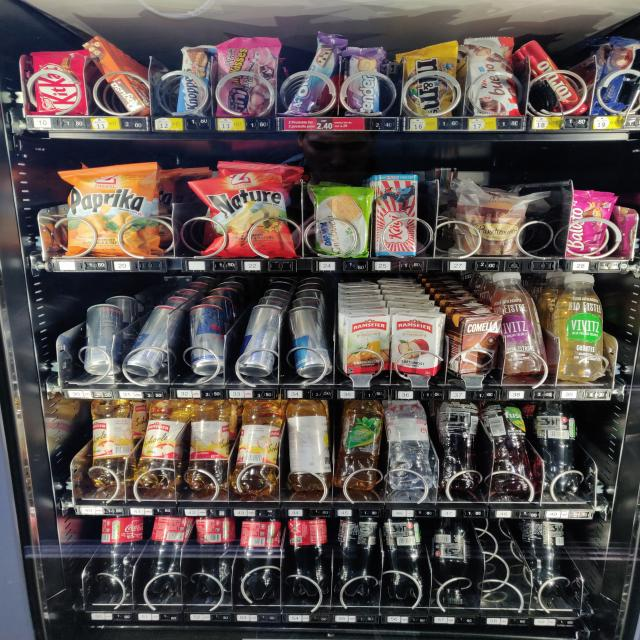balisto_yoberry__37g__: (566, 192, 616, 256)
bueno___43__4008400320328: (468, 33, 522, 118)
coke__flasche_50__54491472: (140, 521, 192, 601), (90, 517, 140, 595), (238, 519, 282, 600), (288, 516, 331, 596), (193, 518, 237, 594)
coke_zero_flasche_50__5449000131836: (538, 406, 591, 494), (380, 519, 427, 601), (333, 518, 378, 599), (524, 518, 571, 591), (436, 520, 470, 608)
comella_schokodrink__33__7613100037253: (449, 312, 501, 376)
darwida_sandwich____7610032065170: (314, 185, 374, 258)
evian___50__3068320353500: (388, 399, 433, 490)
fini_jellykisses_packung_80_1_8410525116704: (219, 36, 284, 120)
fuse_blackicetea__50__: (486, 404, 534, 498), (438, 401, 484, 493)
kagi_specialedition__50__7610046000259: (372, 173, 422, 260)
kitkat_____: (24, 48, 85, 116)
knoppers_riegel____4035800488808: (174, 44, 219, 116)
lindt_nocciolate____: (595, 35, 640, 115)
milka_oreo_riegel_37_1_7622210704740: (283, 34, 341, 116)
milka_tender____: (344, 46, 391, 116)
mnms_gelb__45__40111445: (402, 41, 464, 118)
momo_icetea__50__: (287, 400, 331, 492)
panettone_____: (450, 189, 537, 264)
ragusa___50__76401121: (85, 34, 152, 116)
ramseier_jusdepomme_tetrapak_33__7610057001078: (391, 310, 447, 377)
ramseier_orange_tetrapak_33__: (344, 312, 391, 375)
ramseier_schorle__50__7610057012456: (228, 398, 281, 497), (186, 399, 233, 494), (134, 401, 182, 490), (89, 399, 135, 488)
redbull___33__90162909: (122, 304, 184, 377), (230, 303, 284, 378), (74, 304, 125, 379), (184, 304, 229, 376)
redbull_light__33__90162800: (279, 305, 333, 378)
torino___46__76415272: (525, 36, 594, 114)
vivitz_classiczitrone__50__: (501, 273, 547, 375)
vivitz_gruentee__50__: (557, 274, 607, 382)
volvic_teeminze__50__3057640335648: (334, 399, 386, 491)
zweifel_paprika__90__7610095013002: (68, 160, 158, 255)
zweifel_salz__90__7610095005007: (192, 171, 289, 262)
